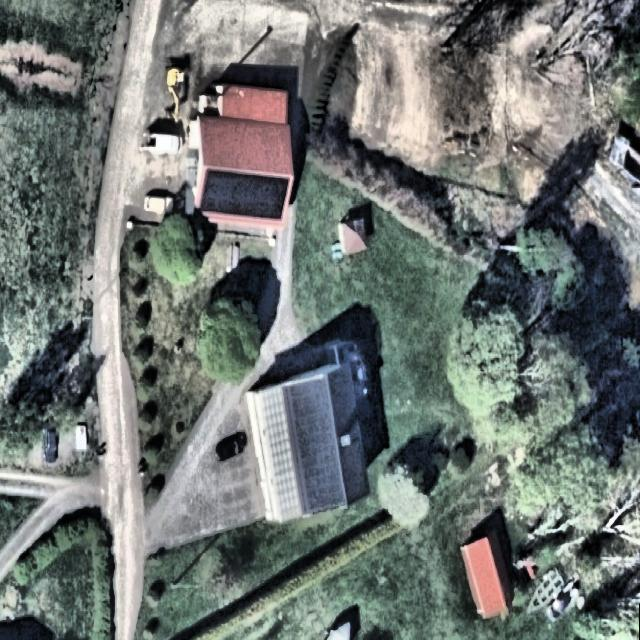roof_pv: (196, 167, 292, 224)
